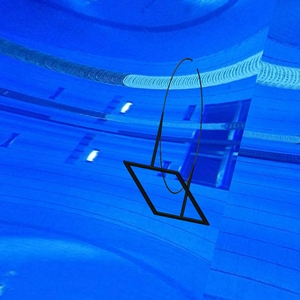circle: (122, 57, 212, 227)
